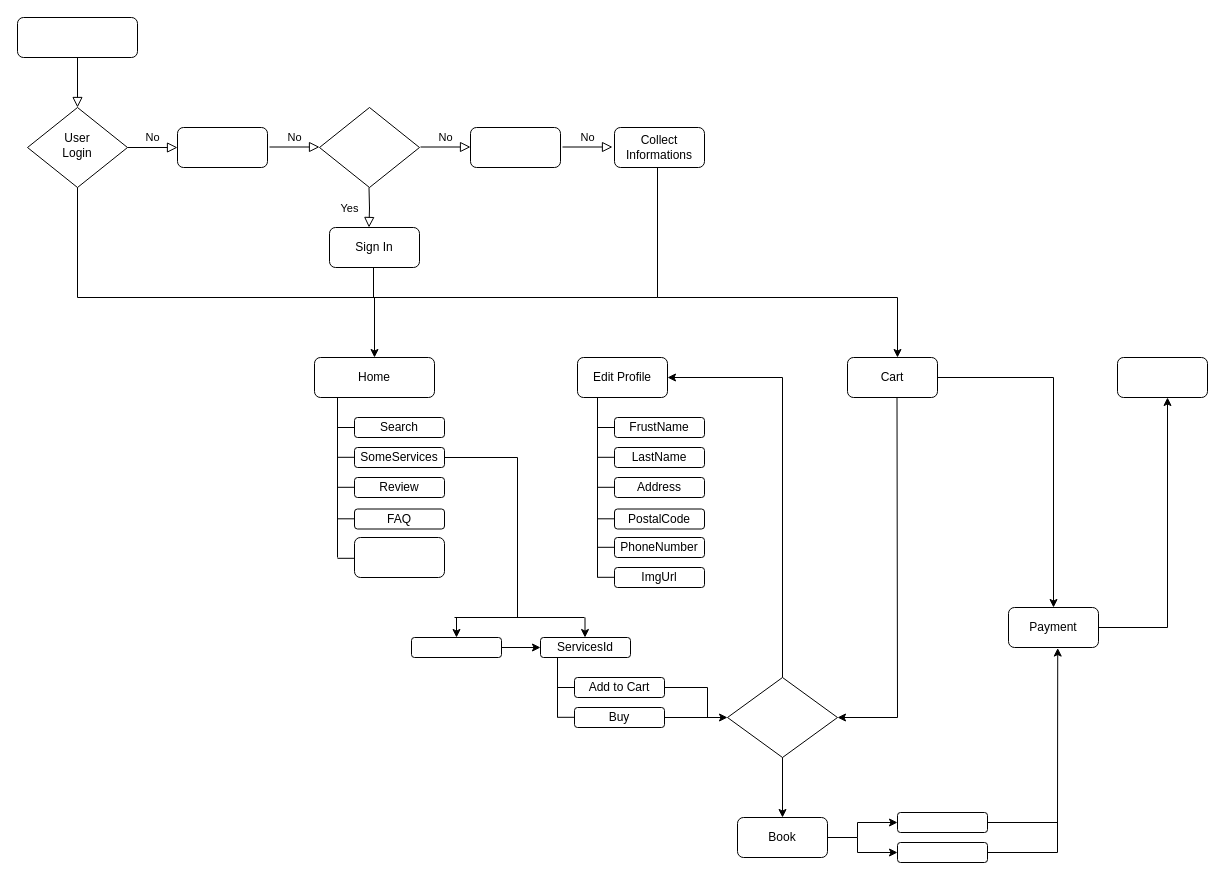
Image size: 1225x880. Some labels were removed from this diagram. Here are the shapes that lost their labels. From the top down, the box of each, then its label:
(16, 16, 138, 58): Open App
(176, 126, 268, 168): Splash Page
(318, 106, 420, 188): Have an account?
(470, 126, 560, 168): Sign Up
(1116, 356, 1208, 398): Transacsion
(354, 536, 444, 578): Address Company
(410, 636, 502, 658): All Services
(726, 676, 838, 758): Already update account
(896, 812, 988, 832): Scedule
(896, 842, 988, 862): Person
